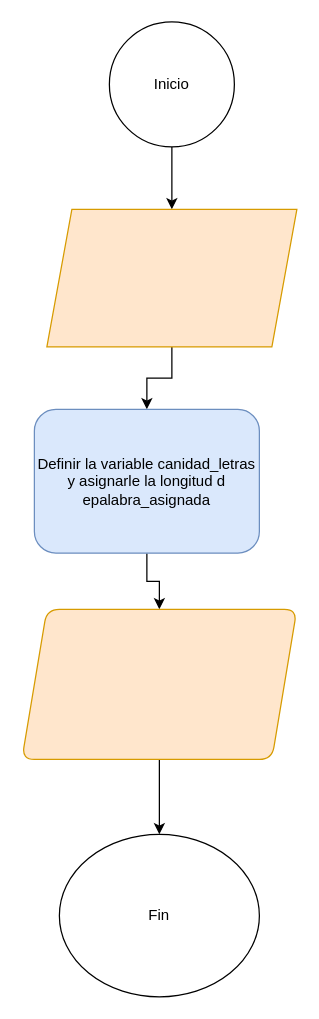
The diagram is 319 pixels wide and 1019 high, and some of its shapes have lost their labels. Here are the shapes that lost their labels. From the top down, the box of each, then its label:
(46, 208, 297, 347): Mostrar mensaje: "Por favor, ingrese una palabra"
(21, 608, 297, 759): Mostrar mensaje: "La palabra ingresada tiene", cantidad_letras, "letras."
